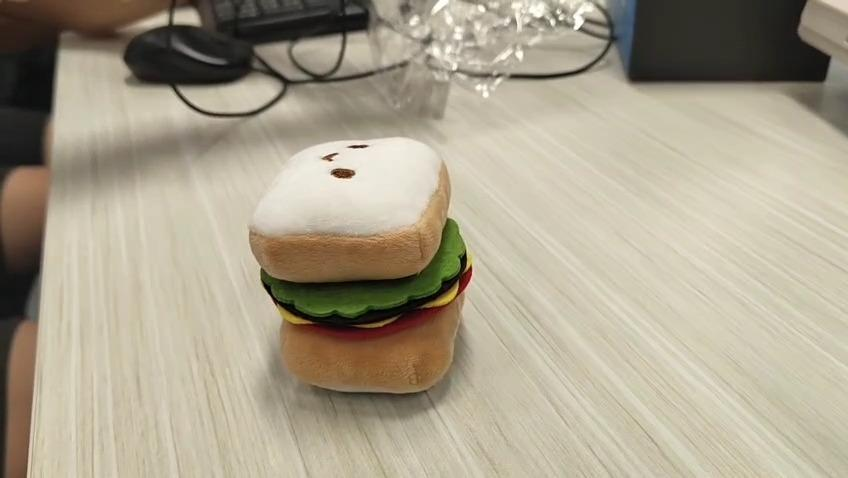objects: (248, 135, 473, 395)
